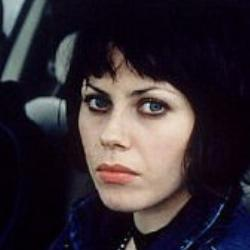face: (50, 5, 250, 220)
